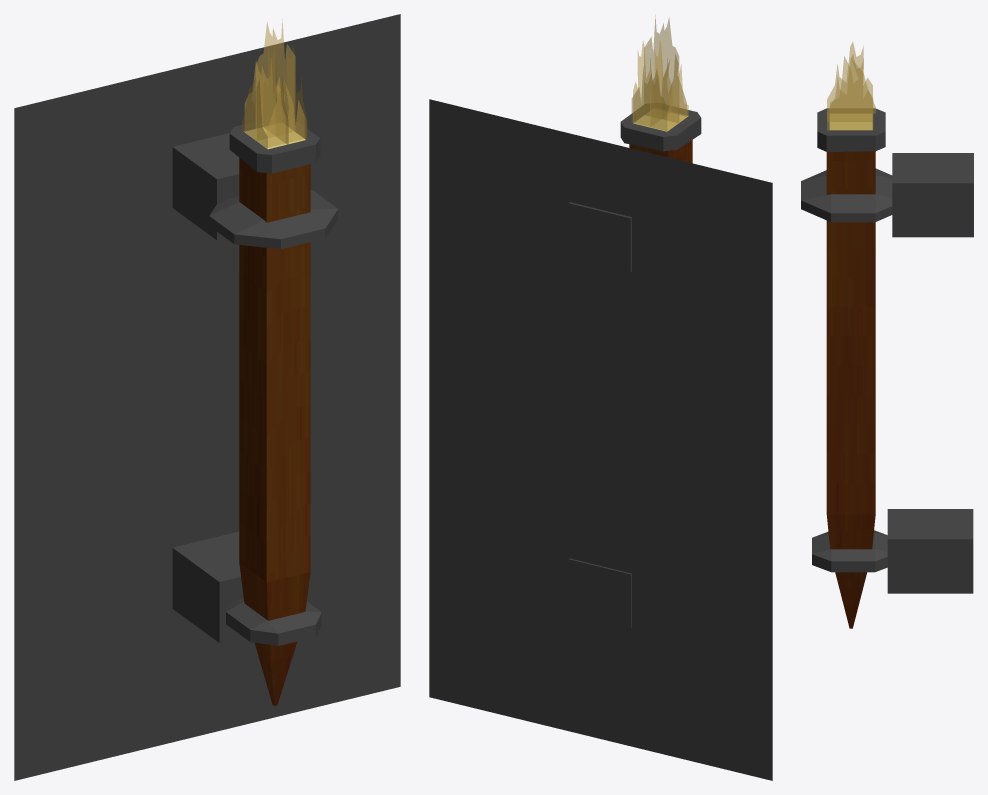
The model's file is Walltorch.glb.
3 renders of one model, left to right at view 1: azimuth 30°, elevation 25°; view 2: azimuth 150°, elevation 25°; view 3: azimuth 270°, elevation 25°, orthographic. The views are drawn at different scales.
Parts seen in each view (by area): view 1: Cube.001, Plane.002, Cube; view 2: Cube.001, Plane.002, Cube; view 3: Cube.001, Cube, Plane.002.
Boxes of the visible parts, bbox=[...] form: Cube.001: bbox=[14, 14, 400, 780]; Plane.002: bbox=[242, 19, 307, 148]; Cube: bbox=[172, 133, 239, 240]; Cube.001: bbox=[429, 99, 772, 780]; Plane.002: bbox=[631, 15, 688, 132]; Cube: bbox=[568, 202, 631, 272]; Cube.001: bbox=[801, 108, 973, 628]; Cube: bbox=[892, 153, 973, 237]; Plane.002: bbox=[827, 42, 875, 130].
Size of the model in its own units: 0.2016 by 0.3816 by 0.0879.
4 materials, 1 textured.
